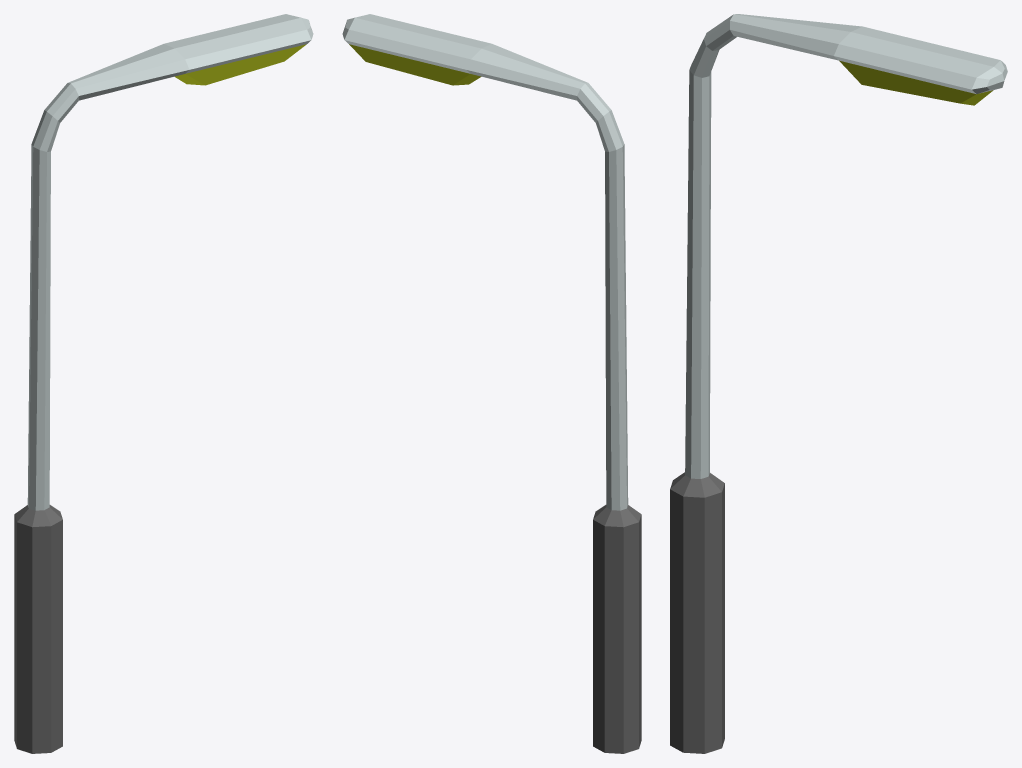
The model's file is Street Light.fbx.
3 renders of one model, left to right at view 1: azimuth 30°, elevation 25°; view 2: azimuth 150°, elevation 25°; view 3: azimuth 330°, elevation 25°, orthographic. The views are drawn at different scales.
Parts seen in each view (by area): view 1: Cylinder; view 2: Cylinder; view 3: Cylinder.
Part boxes in pixels (x1=…): Cylinder: x1=14, y1=14, x2=313, y2=753; Cylinder: x1=342, y1=14, x2=641, y2=753; Cylinder: x1=670, y1=14, x2=1007, y2=753.
Bounding box in the file's own units: 155 × 334 × 27.53.
